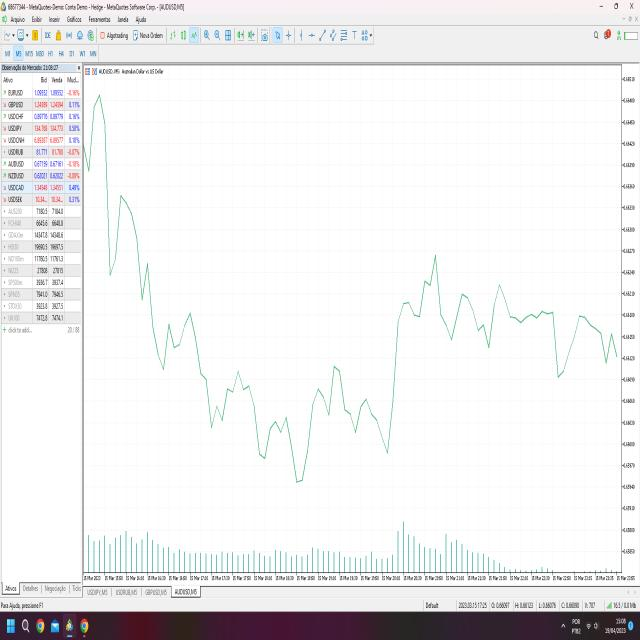fundo_duplo: (195, 375, 228, 436)
oco: (304, 308, 376, 516), (219, 354, 255, 422)
